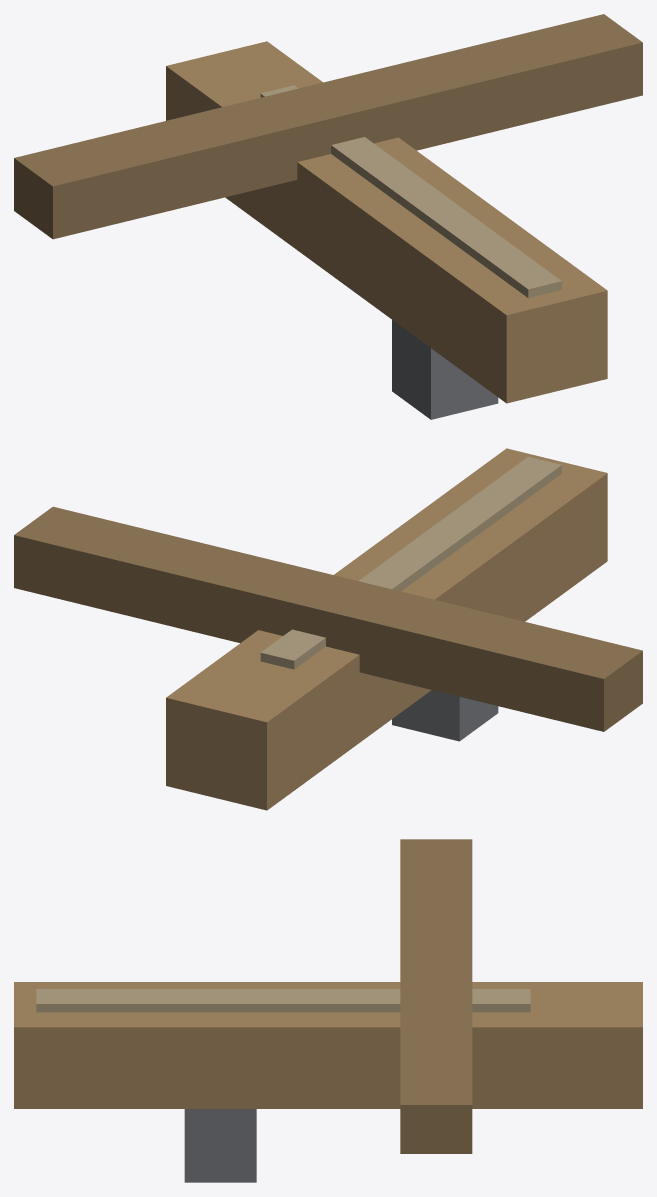
Rendered from crossbow.glb.
The picture shows the model from 3 angles, top to bottom: view 1: azimuth 30°, elevation 25°; view 2: azimuth 150°, elevation 25°; view 3: azimuth 270°, elevation 25°; orthographic projection. The views are drawn at different scales.
Visible parts, largest first — view 1: geometry_0; view 2: geometry_0; view 3: geometry_0.
Boxes of the visible parts, x1,y1,x2,y2 form: geometry_0: (14, 14, 642, 419); geometry_0: (14, 448, 642, 810); geometry_0: (14, 839, 642, 1182).
Size of the model in its own units: 0.7 by 0.24 by 0.7.
